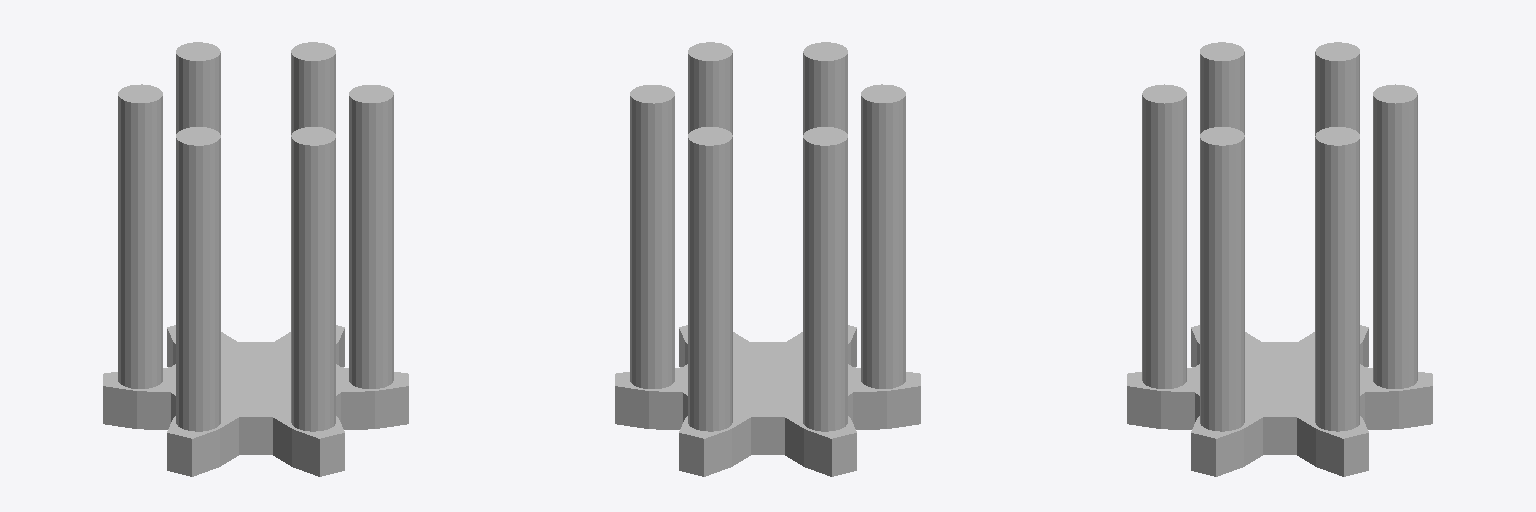
File: escapePinion.obj
3 renders of one model, left to right at view 1: azimuth 30°, elevation 25°; view 2: azimuth 150°, elevation 25°; view 3: azimuth 270°, elevation 25°, orthographic.
Parts seen in each view (by area): view 1: escapePinion1; view 2: escapePinion1; view 3: escapePinion1.
Part boxes in pixels (x1,y1,x2,y2): escapePinion1: (103,42,408,476); escapePinion1: (615,42,920,476); escapePinion1: (1127,42,1432,476).
Size of the model in its own units: 0.8296 by 1.06 by 0.9072.